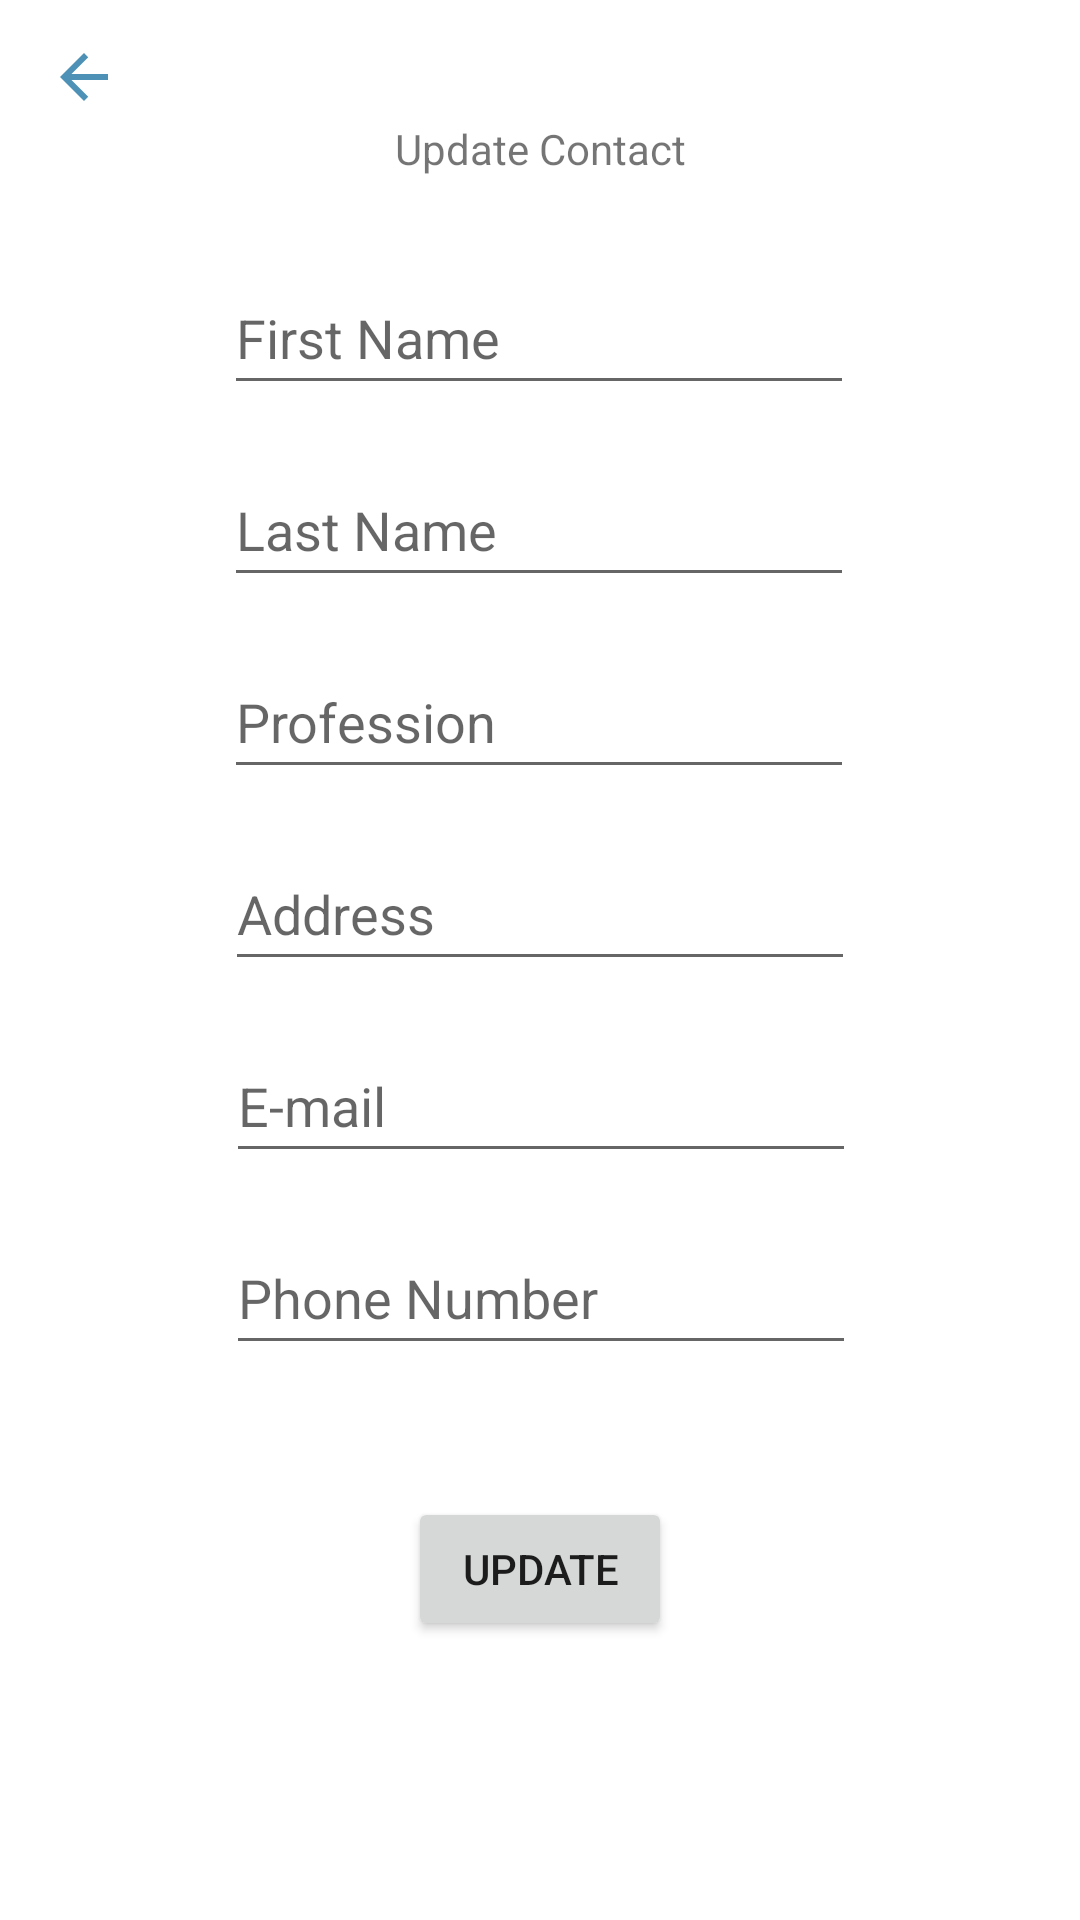

Where to tap for icons on this 1080 × 1920 app screen, as (x,y):
Return to previous page: (84,77)
